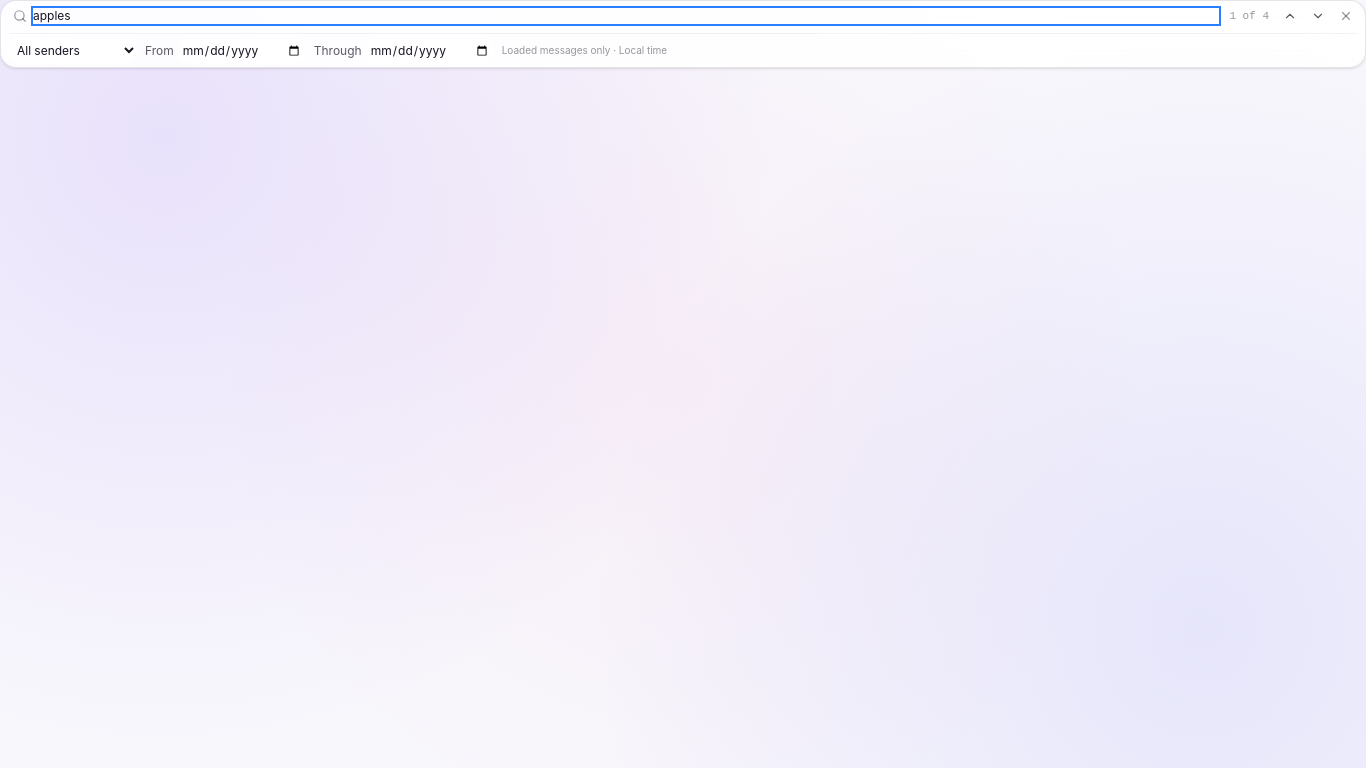
Test: MessageSearchBar › narrows keyword matches to inclusive local days and combines with sender
The image size is (1366, 768).
Type "2026-10-22" into the date field with test id "search-from-date" at (242, 50), box [178,38,306,62]
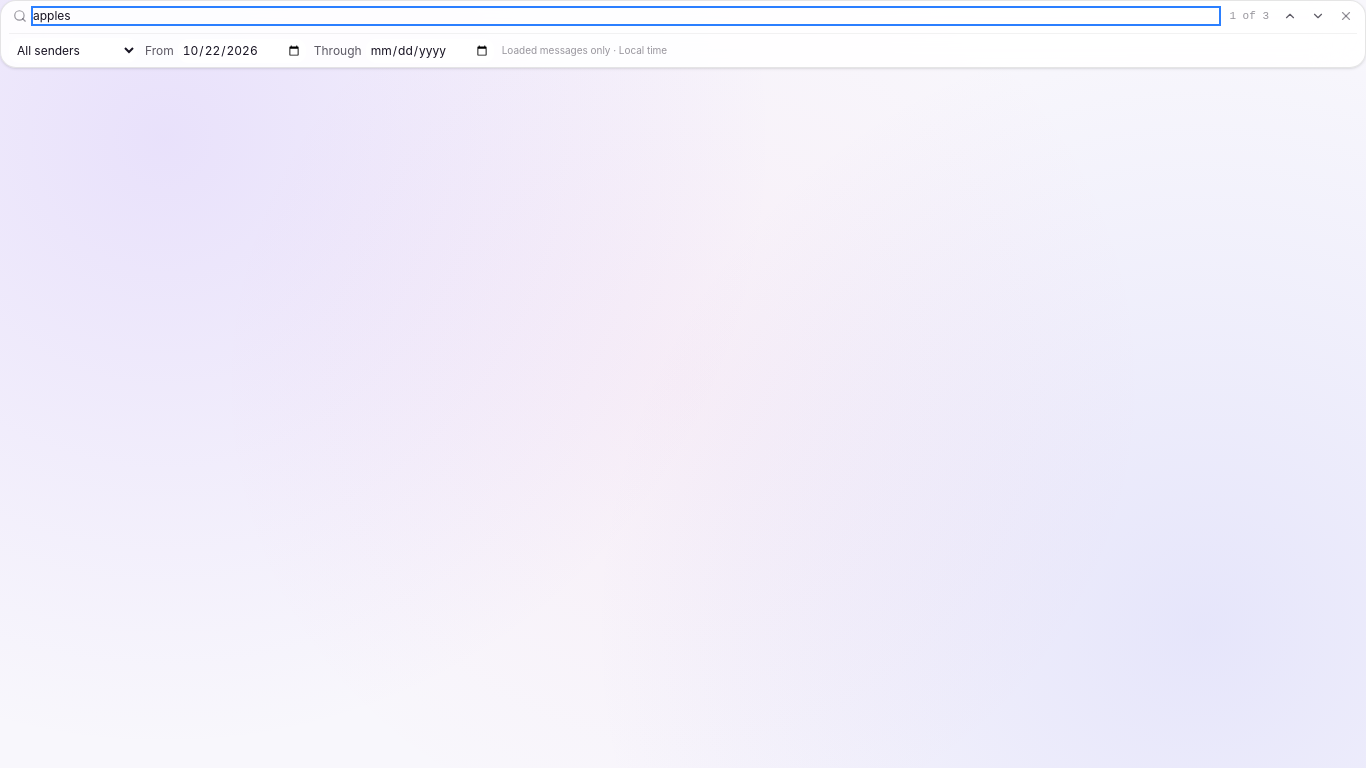
Expected: the message with test id "search-count" reads "1 of 3", [1229,10,1269,22]
Type "2026-10-22" into the date field with test id "search-through-date" at (430, 50), box [366,38,494,62]
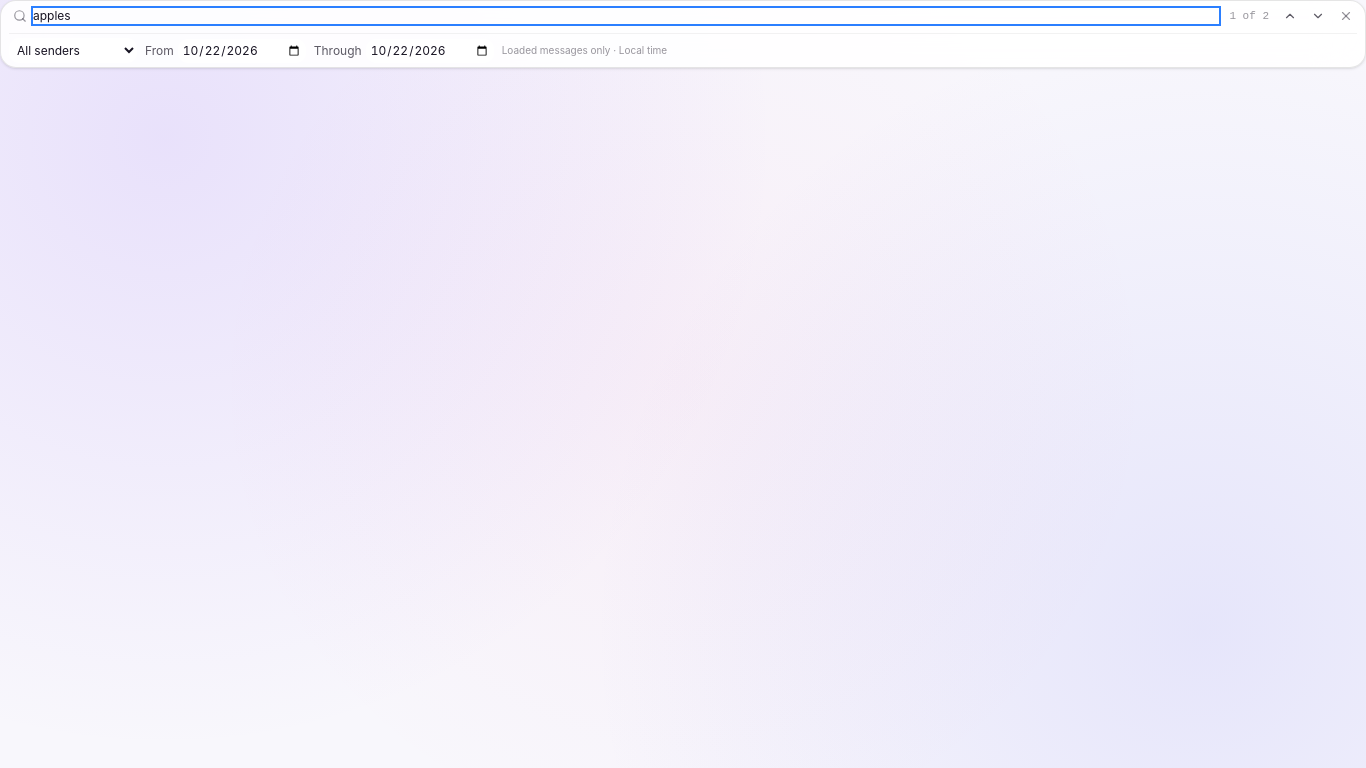
Expected: the message with test id "search-count" reads "1 of 2", [1229,10,1269,22]
Click the button with test id "search-next-btn" at (1318, 16), box [1307,5,1329,27]
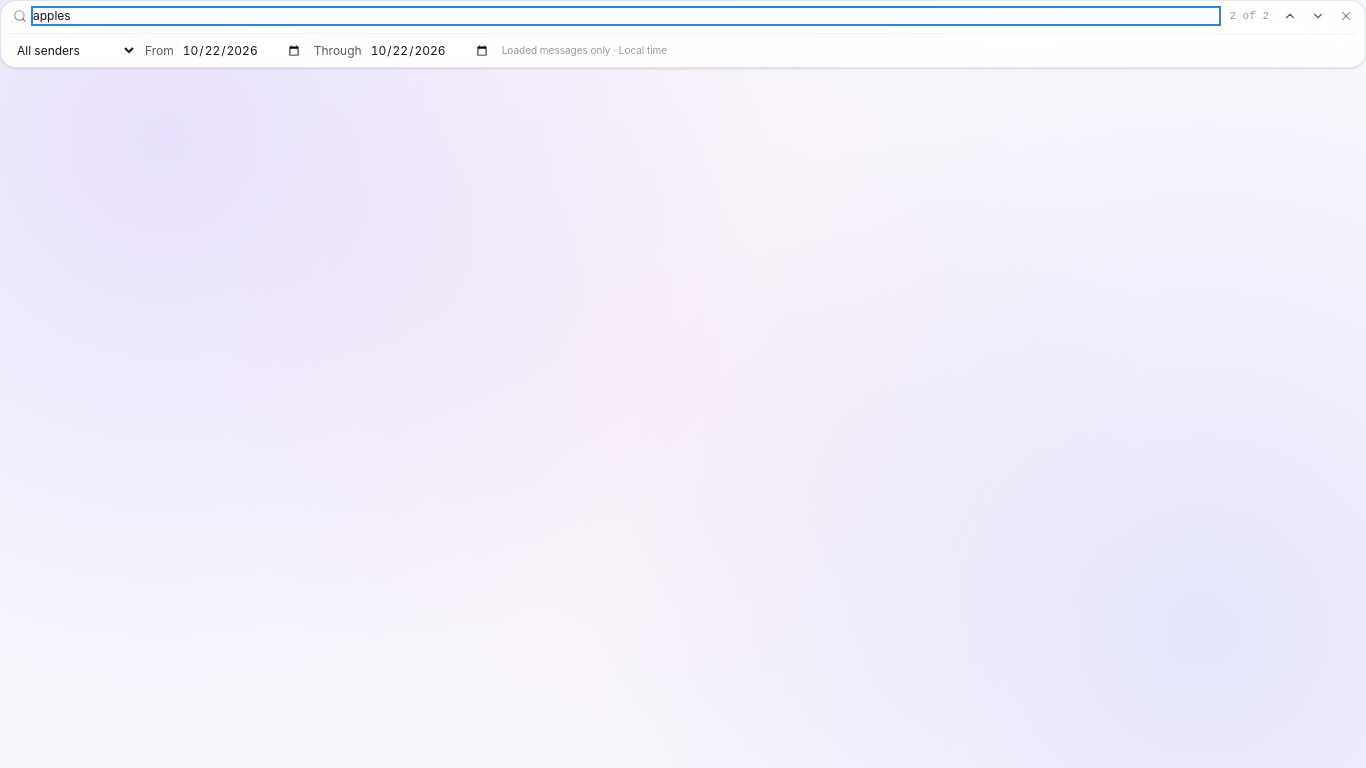
Select "u-2" in the dropdown with test id "search-sender" at (73, 50), box [9,38,137,63]
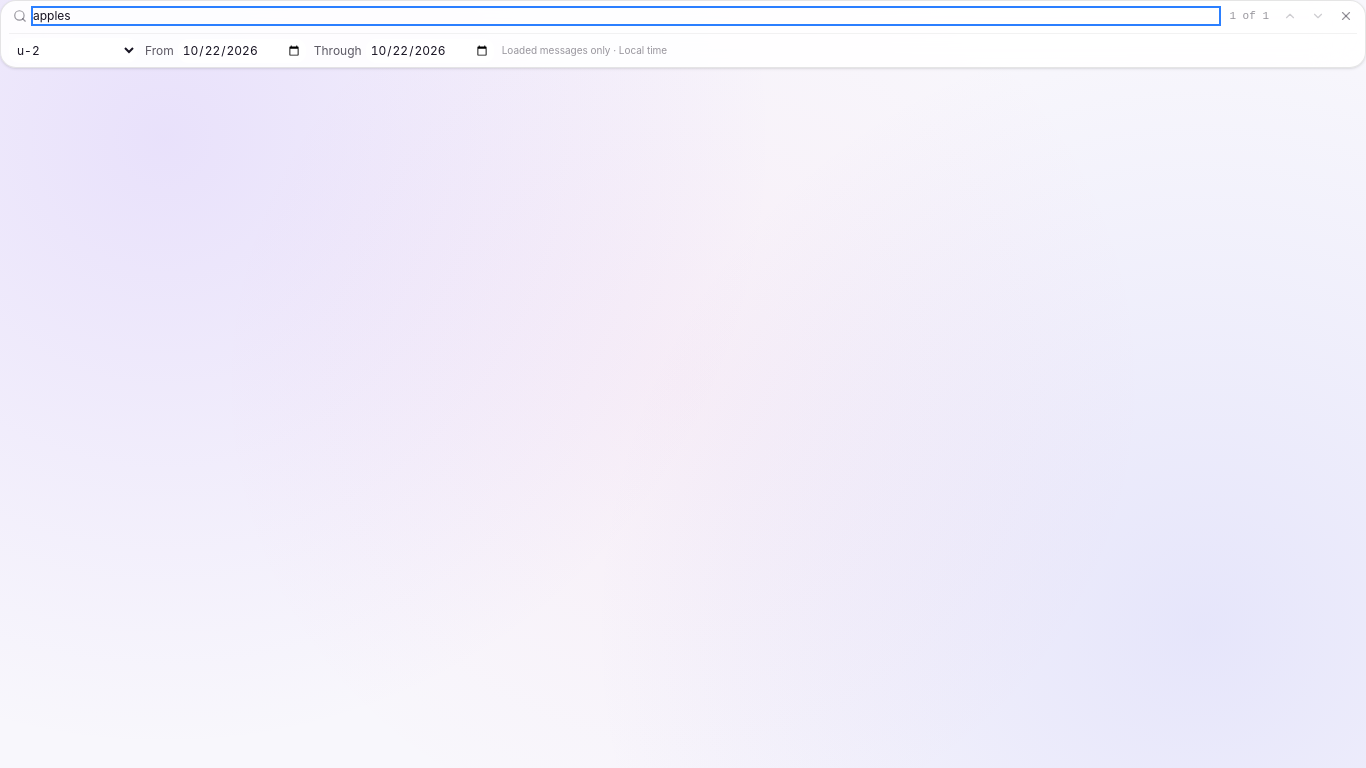
Expected: the message with test id "search-count" reads "1 of 1", [1229,10,1269,22]
Clear the date field with test id "search-from-date" at (242, 50), box [178,38,306,62]
Select "All senders" in the dropdown with test id "search-sender" at (73, 50), box [9,38,137,63]
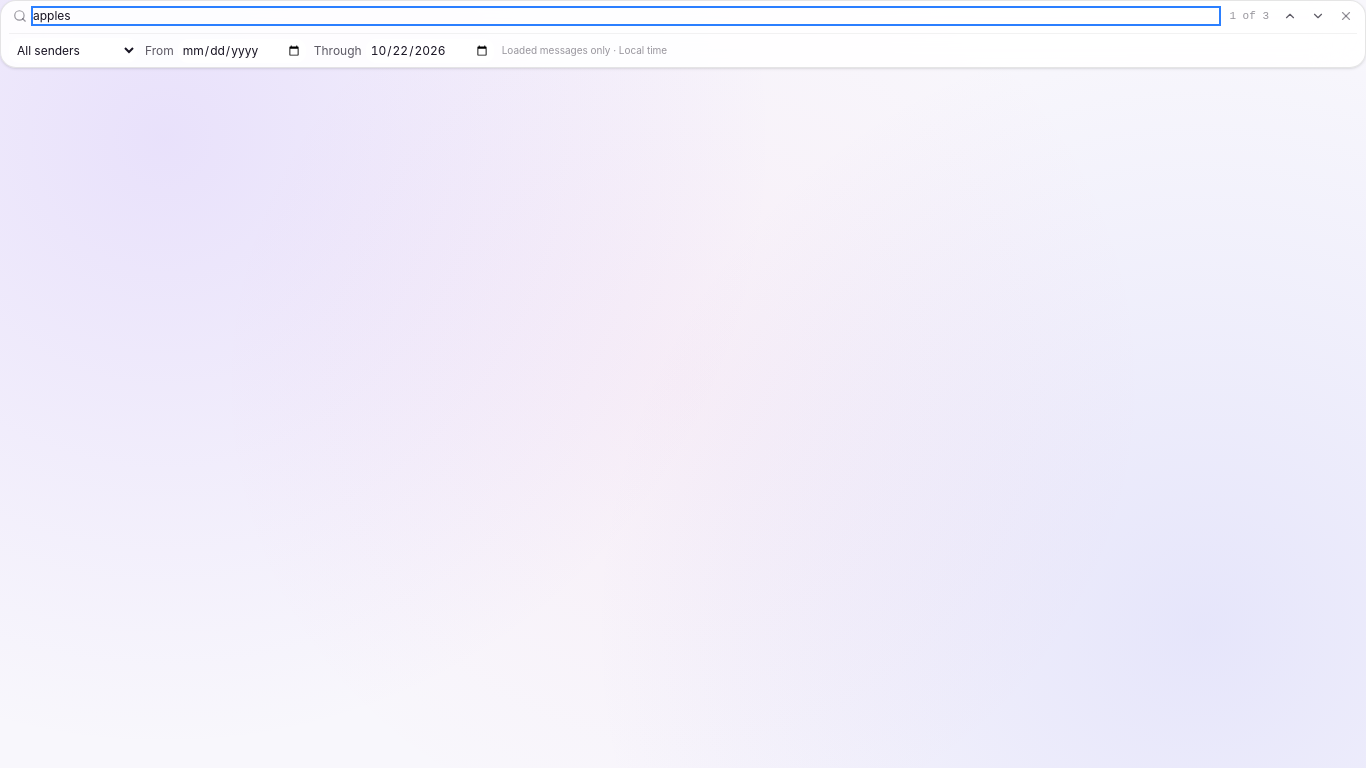
Expected: the message with test id "search-count" reads "1 of 3", [1229,10,1269,22]
Clear the date field with test id "search-through-date" at (430, 50), box [366,38,494,62]
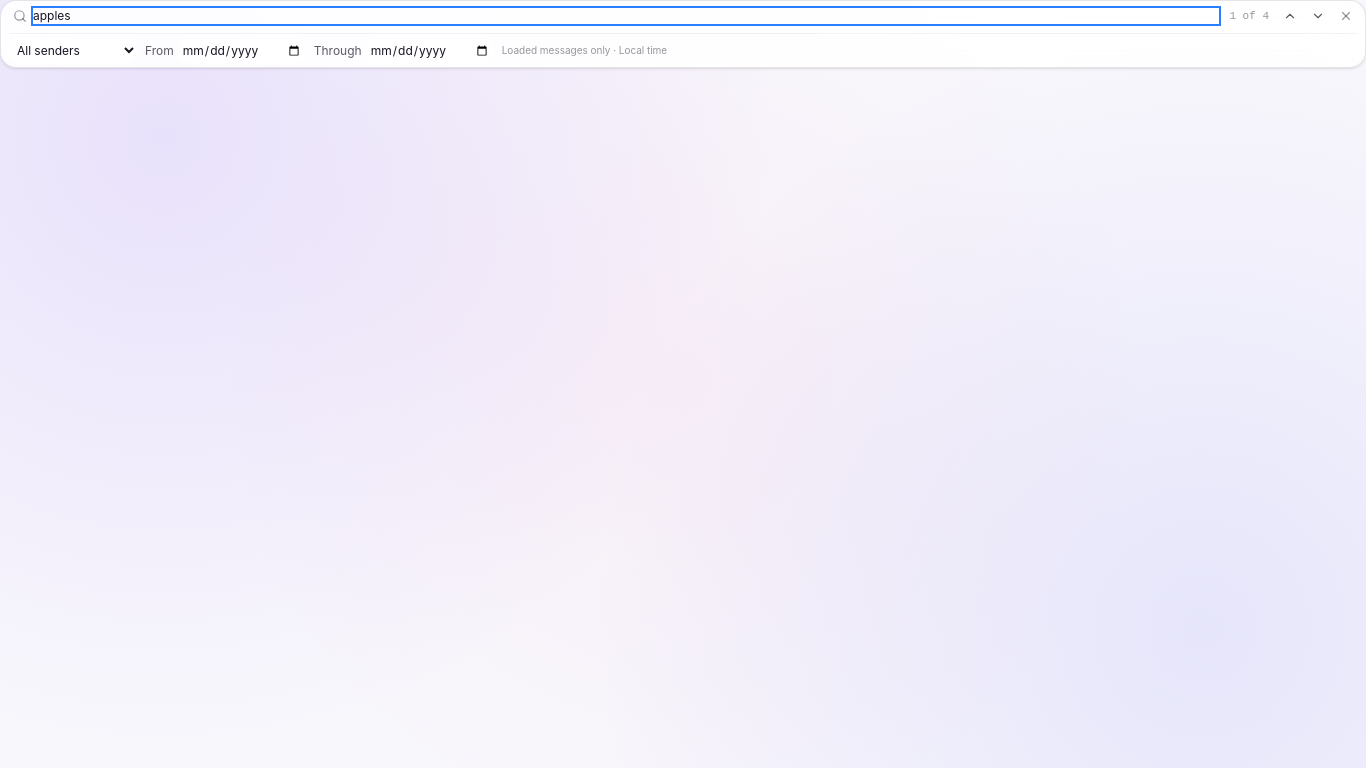
Expected: the text "Local time" is shown, [502,44,667,56]
Expected: the message with test id "search-count" reads "1 of 4", [1229,10,1269,22]
